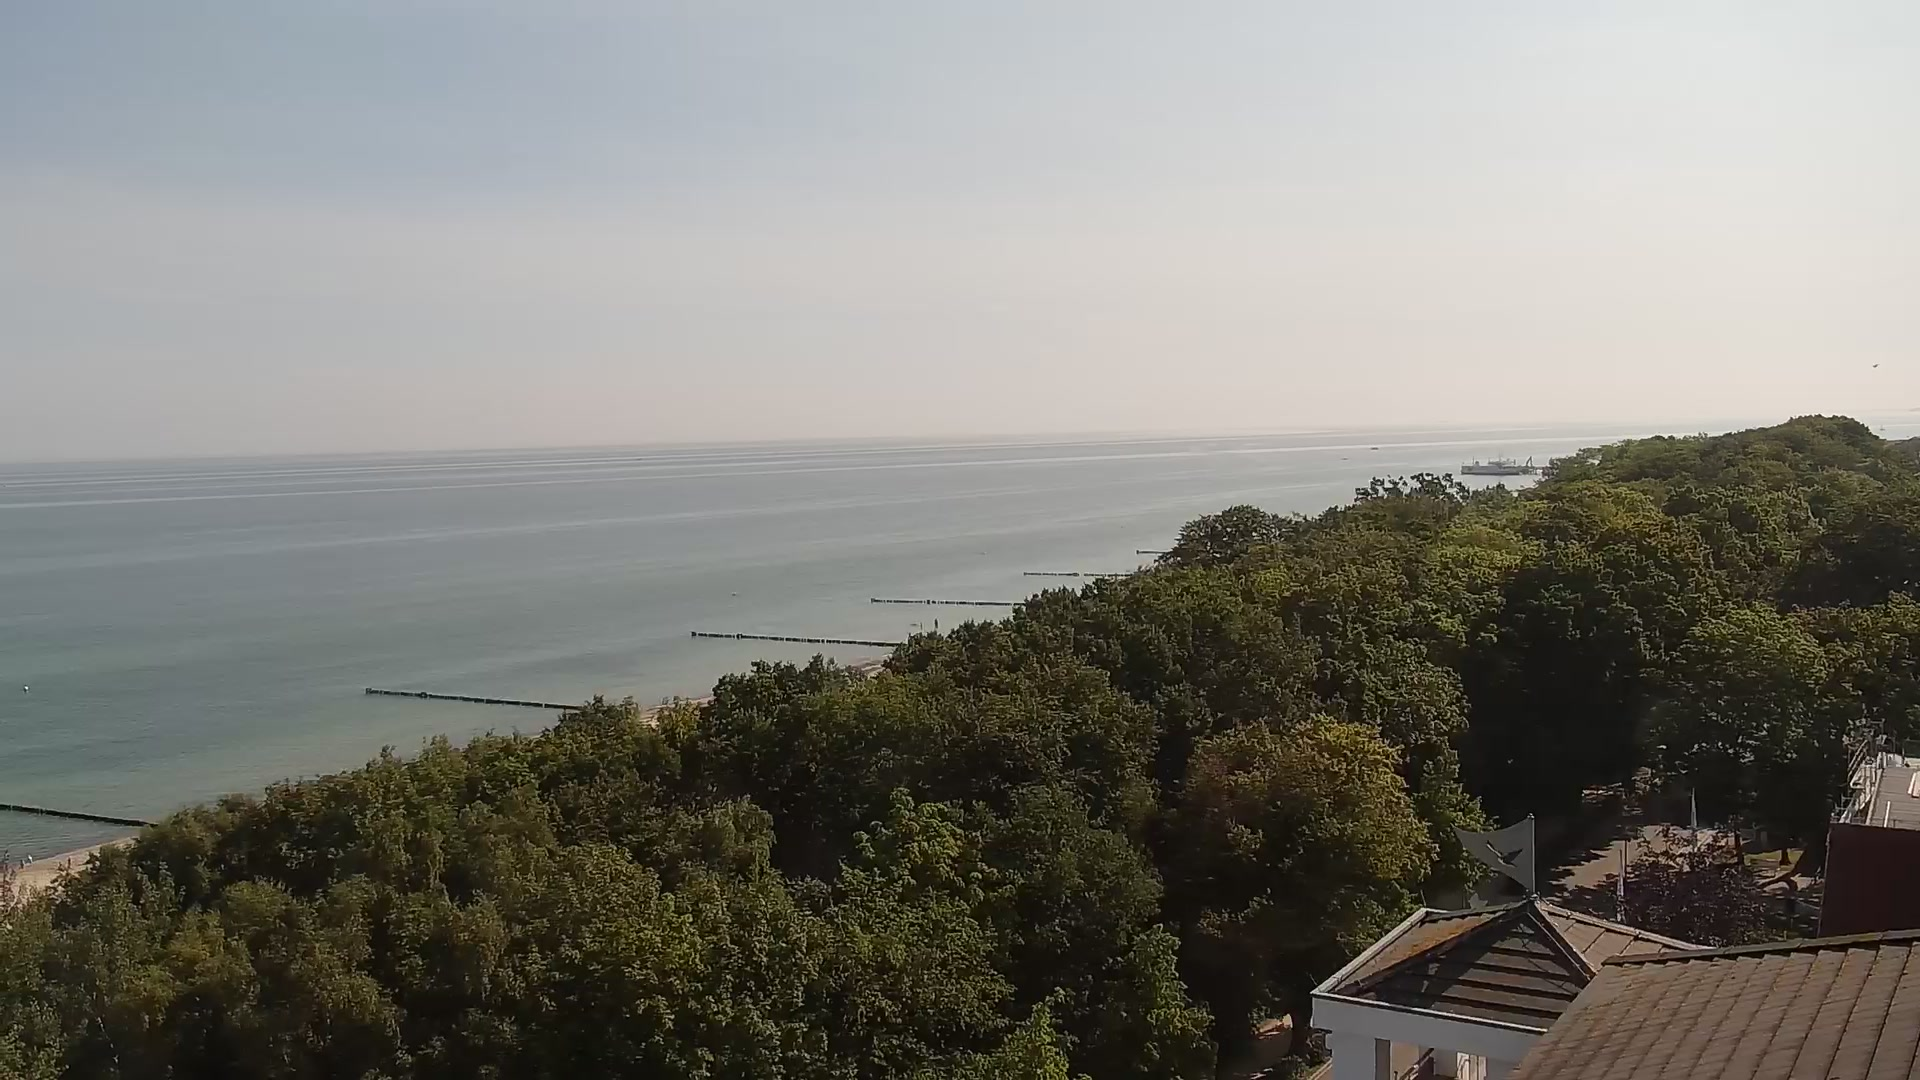human: (56, 860, 66, 872), (26, 853, 33, 865), (20, 858, 25, 870), (67, 856, 72, 867)
sea: (1459, 455, 1537, 475)
